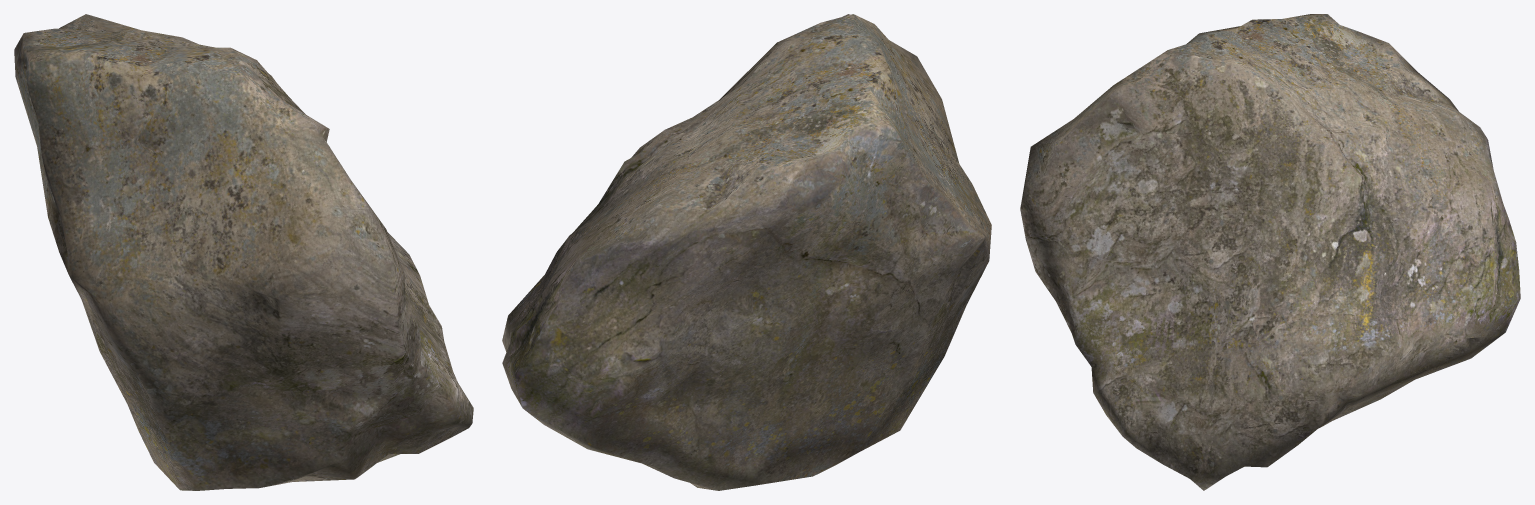
File: shopk_tier_3.gltf
3 views of the same model, side by side, from view 1: azimuth 30°, elevation 25°; view 2: azimuth 150°, elevation 25°; view 3: azimuth 270°, elevation 25° (orthographic). The views are drawn at different scales.
Parts seen in each view (by area): view 1: shopk_LOD0_TIER3_000; view 2: shopk_LOD0_TIER3_000; view 3: shopk_LOD0_TIER3_000.
Part boxes in pixels (x1,y1,x2,y2): shopk_LOD0_TIER3_000: [14, 14, 473, 490]; shopk_LOD0_TIER3_000: [502, 14, 991, 490]; shopk_LOD0_TIER3_000: [1020, 14, 1520, 490].
Bounding box in the file's own units: 1.21 × 1.26 × 1.61.
Materials: 1 (1 with a texture image).
